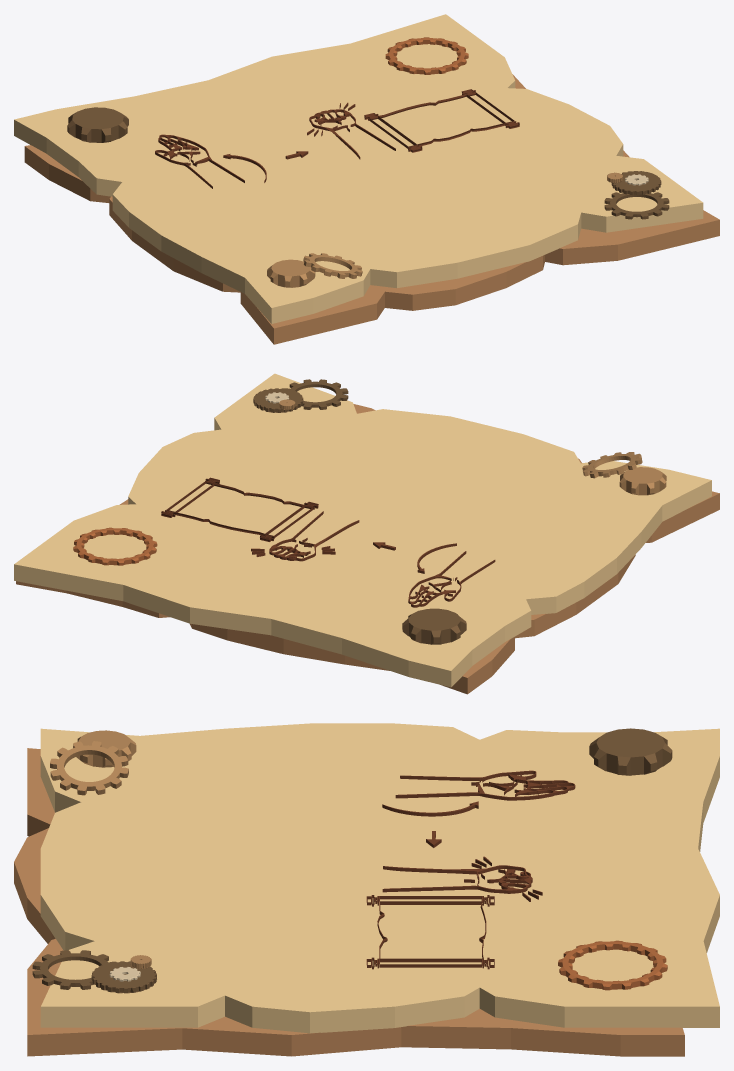
The model's file is smallCanvas.fbx.
3 renders of one model, top to bottom at view 1: azimuth 30°, elevation 25°; view 2: azimuth 150°, elevation 25°; view 3: azimuth 270°, elevation 25°, orthographic. The views are drawn at different scales.
Parts seen in each view (by area): view 1: PaperTop, PaperBottom, Ilustration1, GearDefault.009, Ilustration2, GearOutSideRing.001, GearDefault.008, GearSimple.012, GearSimple.011, GearBig.016; view 2: PaperTop, PaperBottom, Ilustration1, GearDefault.009, Ilustration2, GearOutSideRing.001, GearDefault.008, GearSimple.011, GearSimple.012, GearBig.016; view 3: PaperTop, PaperBottom, Ilustration1, GearDefault.009, Ilustration2, GearOutSideRing.001, GearSimple.011, GearSimple.012, GearBig.016, GearDefault.008.
Part boxes in pixels (left/top/right/bottom): PaperTop: left=14, top=14, right=703, bottom=323; PaperBottom: left=24, top=74, right=719, bottom=344; Ilustration1: left=155, top=102, right=395, bottom=188; GearDefault.009: left=67, top=107, right=128, bottom=142; Ilustration2: left=364, top=89, right=519, bottom=152; GearOutSideRing.001: left=385, top=37, right=468, bottom=74; GearDefault.008: left=267, top=259, right=315, bottom=287; GearSimple.012: left=604, top=192, right=669, bottom=219; GearSimple.011: left=303, top=253, right=362, bottom=278; GearBig.016: left=611, top=171, right=661, bottom=195; PaperTop: left=14, top=373, right=711, bottom=687; PaperBottom: left=16, top=404, right=719, bottom=694; Ilustration1: left=251, top=511, right=495, bottom=607; GearDefault.009: left=402, top=608, right=466, bottom=644; Ilustration2: left=161, top=477, right=318, bottom=541; GearOutSideRing.001: left=73, top=527, right=157, bottom=565; GearDefault.008: left=619, top=467, right=666, bottom=495; GearSimple.011: left=582, top=452, right=642, bottom=478; GearSimple.012: left=284, top=379, right=348, bottom=409; GearBig.016: left=253, top=388, right=303, bottom=412; PaperTop: left=40, top=723, right=719, bottom=1033; PaperBottom: left=14, top=748, right=684, bottom=1056; Ilustration1: left=382, top=770, right=575, bottom=901; GearDefault.009: left=589, top=728, right=672, bottom=775; Ilustration2: left=366, top=895, right=494, bottom=969; GearOutSideRing.001: left=558, top=940, right=667, bottom=990; GearSimple.011: left=50, top=741, right=128, bottom=795; GearSimple.012: left=32, top=950, right=113, bottom=989; GearBig.016: left=91, top=961, right=156, bottom=993; GearDefault.008: left=73, top=730, right=136, bottom=767.
Size of the model in its own units: 125 by 13.16 by 128.
